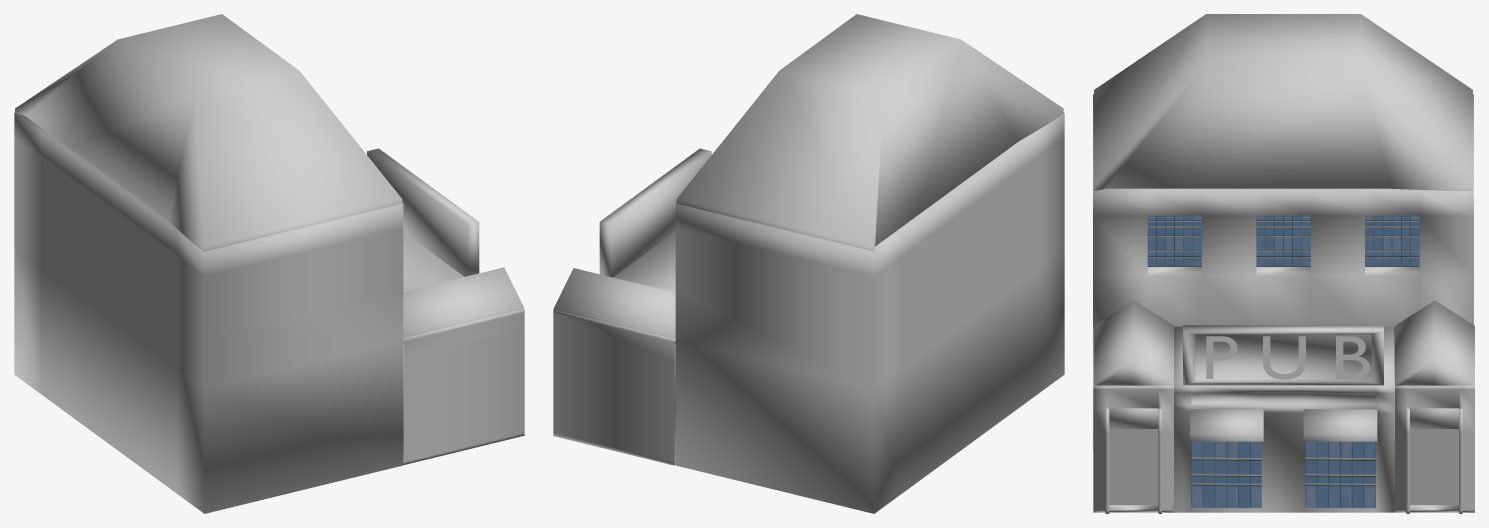
The model's file is Pub.fbx.
3 renders of one model, left to right at view 1: azimuth 30°, elevation 25°; view 2: azimuth 150°, elevation 25°; view 3: azimuth 270°, elevation 25°, orthographic.
Parts seen in each view (by area): view 1: Pub, Ceiling, PubSignBoard; view 2: Pub, Ceiling, PubSignBoard; view 3: Pub, Ceiling, PubSignBoard, Window, windowsTopFloor, doors, Hood, Text.
Boxes of the visible parts, <box> form: Pub: <box>14,113,524,513</box>; Ceiling: <box>15,14,402,251</box>; PubSignBoard: <box>367,148,479,276</box>; Pub: <box>553,113,1064,513</box>; Ceiling: <box>676,14,1063,251</box>; PubSignBoard: <box>599,148,711,277</box>; Pub: <box>1093,94,1474,513</box>; Ceiling: <box>1094,14,1472,190</box>; PubSignBoard: <box>1183,325,1383,385</box>; Window: <box>1191,441,1375,508</box>; windowsTopFloor: <box>1147,215,1419,266</box>; doors: <box>1109,429,1458,504</box>; Hood: <box>1190,409,1377,441</box>; Text: <box>1206,336,1370,379</box>.
Size of the model in its own units: 28.47 by 29.49 by 27.51.
